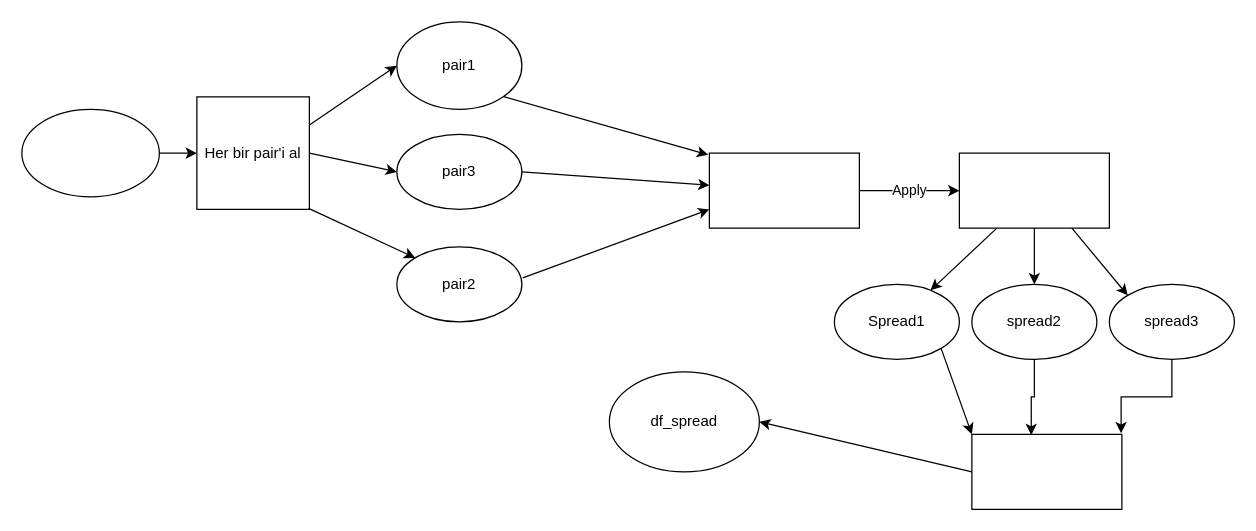
Some shapes in this 1256 by 531 pixel diagram are drawn without their labels. Each missing label, with the centre of its shape:
"concat(spread1, spread2 spread3)" belongs at (1046,471).
"df_mid_price" belongs at (90,152).
"Groupby(tarih,saat)" belongs at (783,190).
"Spread(pair)" belongs at (1033,190).
